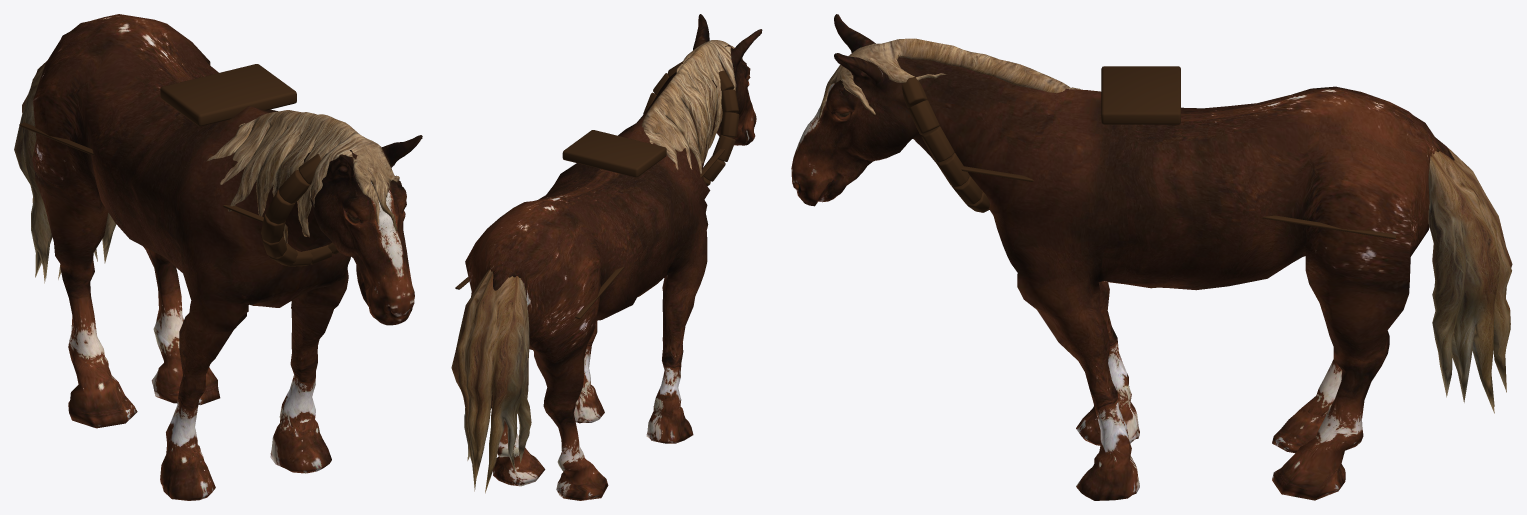
The model's file is team.glb.
3 views of the same model, side by side, from view 1: azimuth 30°, elevation 25°; view 2: azimuth 150°, elevation 25°; view 3: azimuth 270°, elevation 25° (orthographic). The views are drawn at different scales.
Parts seen in each view (by area): view 1: team_bay; view 2: team_bay; view 3: team_bay.
Part boxes in pixels (<box>): team_bay: <box>14,14,422,500</box>; team_bay: <box>451,14,762,500</box>; team_bay: <box>791,14,1512,500</box>.
Bounding box in the file's own units: 0.849 × 2.1 × 3.17.
Materials: 6 (4 with a texture image).
